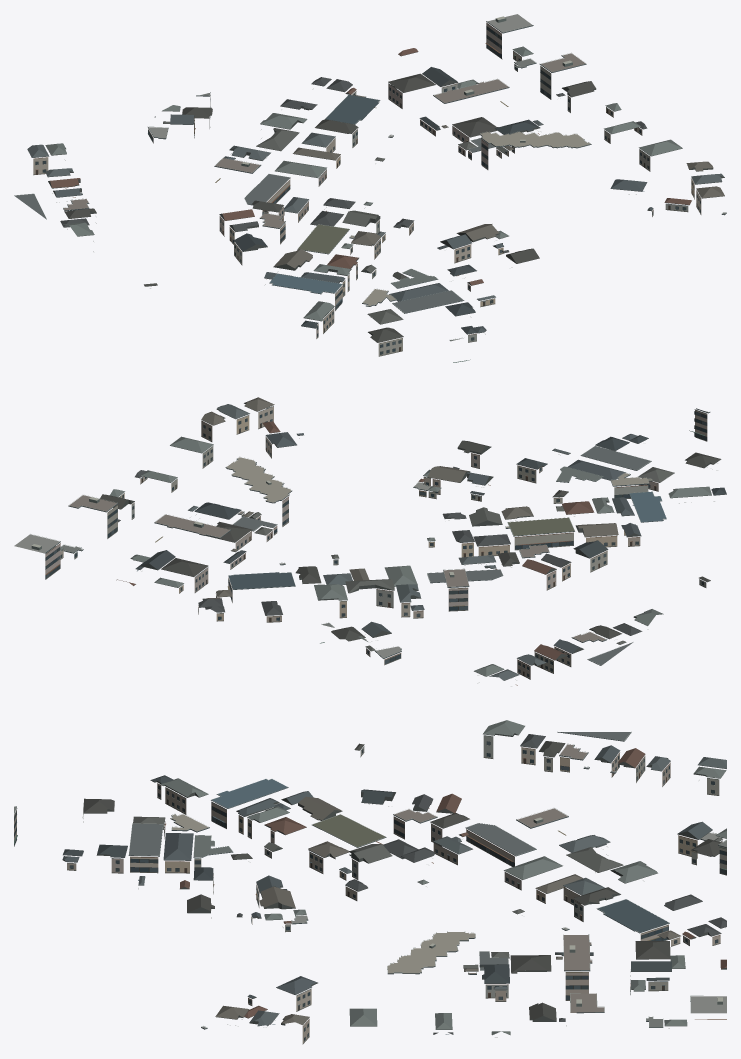
The picture shows the model from 3 angles, top to bottom: view 1: azimuth 30°, elevation 25°; view 2: azimuth 150°, elevation 25°; view 3: azimuth 270°, elevation 25°; orthographic projection. The views are drawn at different scales.
Parts seen in each view (by area): view 1: r5-c1; view 2: r5-c1; view 3: r5-c1.
Boxes of the visible parts, box(x1,y1,x2,y2) form: r5-c1: box(14, 14, 726, 362); r5-c1: box(14, 397, 726, 686); r5-c1: box(14, 720, 726, 1044).
Size of the model in its own units: 250 by 15.89 by 250.
